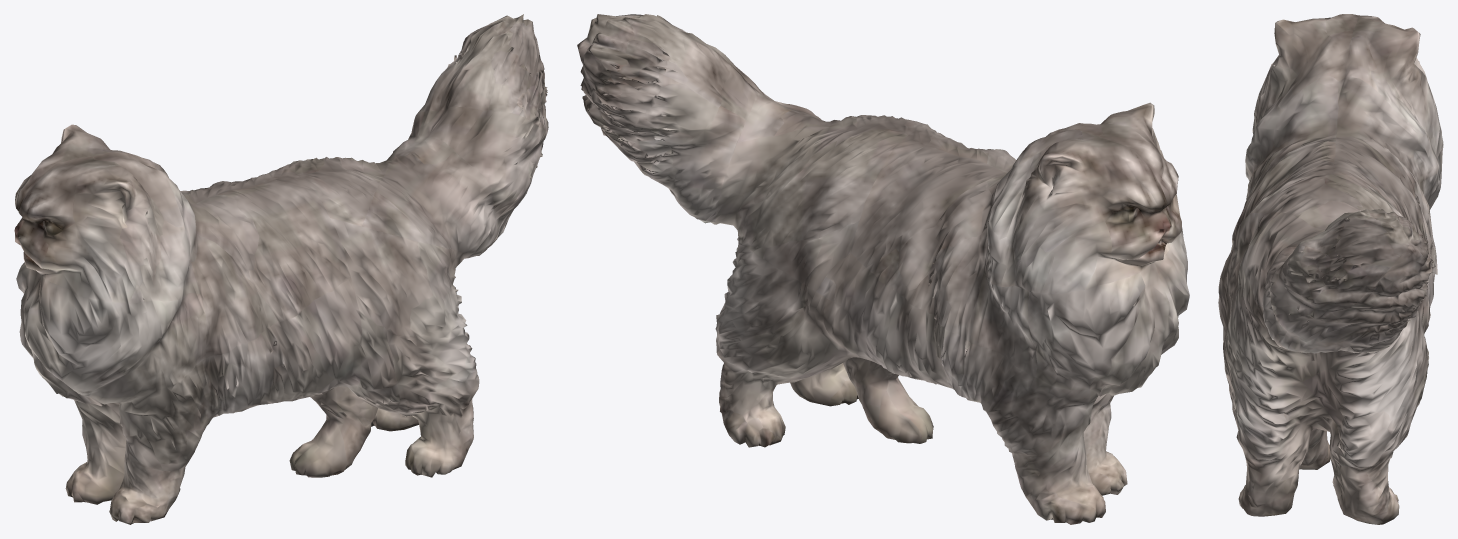
Rendered from CLIVECAT.glb.
3 views of the same model, side by side, from view 1: azimuth 30°, elevation 25°; view 2: azimuth 150°, elevation 25°; view 3: azimuth 270°, elevation 25° (orthographic). The views are drawn at different scales.
Visible parts, largest first — view 1: tripo_node_ead7db18-a92b-409c-ba5f-770d9468b62d; view 2: tripo_node_ead7db18-a92b-409c-ba5f-770d9468b62d; view 3: tripo_node_ead7db18-a92b-409c-ba5f-770d9468b62d.
Part boxes in pixels (x1,y1,x2,y2): tripo_node_ead7db18-a92b-409c-ba5f-770d9468b62d: (14, 14, 548, 524); tripo_node_ead7db18-a92b-409c-ba5f-770d9468b62d: (577, 14, 1189, 524); tripo_node_ead7db18-a92b-409c-ba5f-770d9468b62d: (1218, 14, 1443, 524).
Size of the model in its own units: 1.51 by 0.9968 by 0.5693.
Materials: 1 (1 with a texture image).
